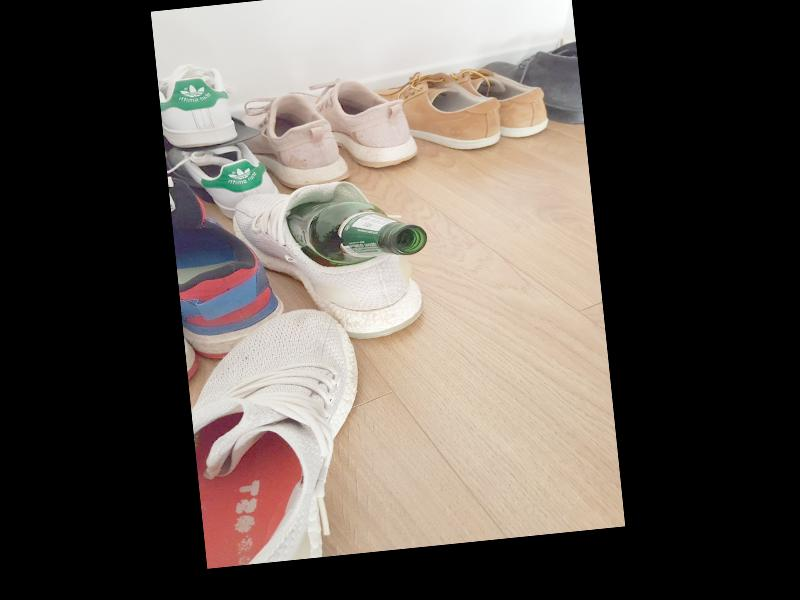Beer: (286, 190, 429, 268)
